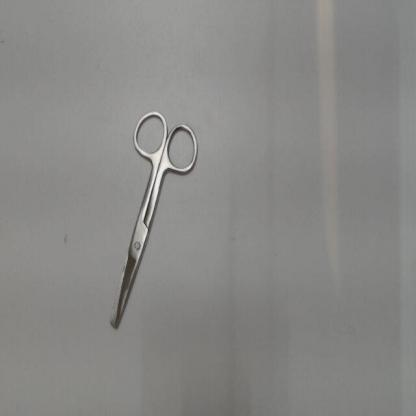Dressing Scissors: (102, 101, 209, 344)
